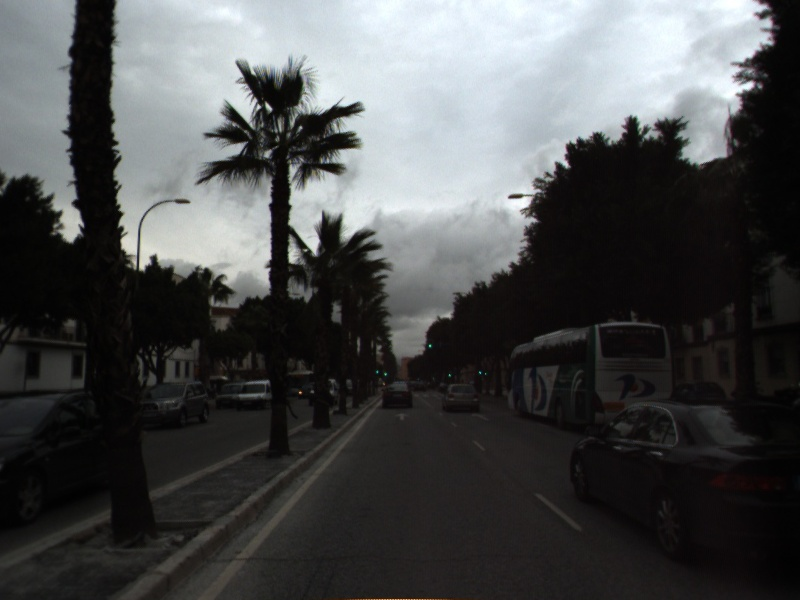STRAIGHT: (469, 411, 493, 424), (392, 410, 412, 423)
